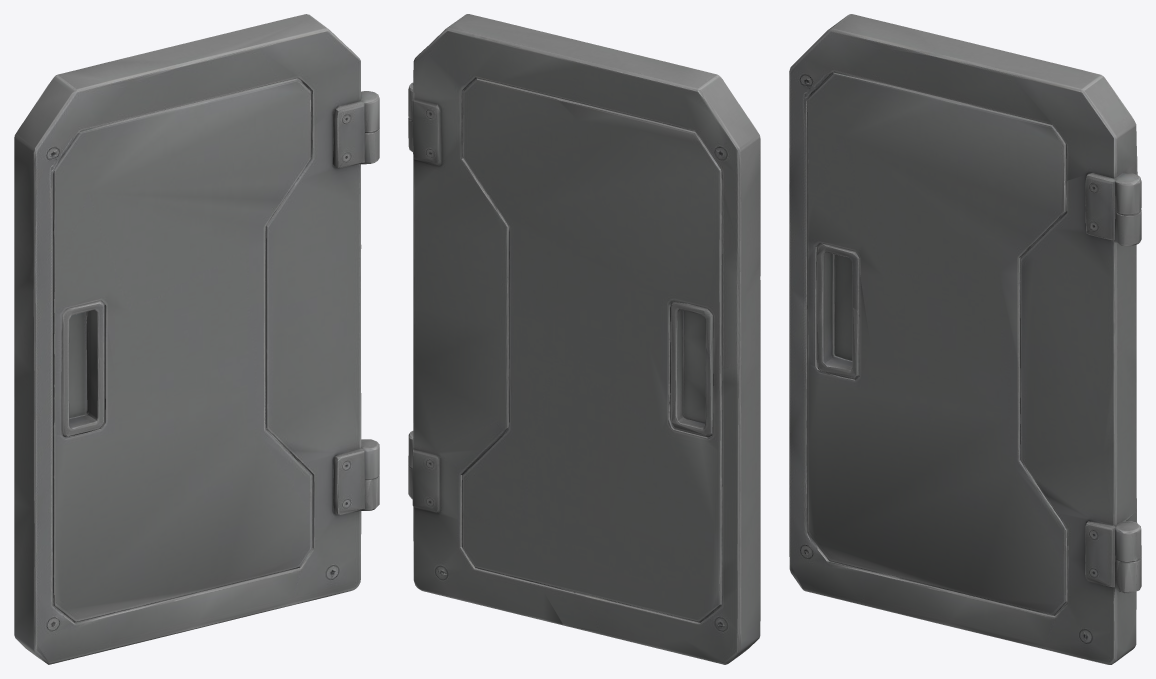
The model's file is shared_flak_tower_compact_option__entrance_door_leaf.glb.
The picture shows the model from 3 angles, left to right: view 1: azimuth 30°, elevation 25°; view 2: azimuth 150°, elevation 25°; view 3: azimuth 330°, elevation 25°; orthographic projection.
Visible parts, largest first — view 1: mesh_node; view 2: mesh_node; view 3: mesh_node.
Boxes of the visible parts, x1,y1,x2,y2 form: mesh_node: (14,14,379,664); mesh_node: (408,14,760,664); mesh_node: (789,14,1141,664).
Size of the model in its own units: 1.4 by 2.19 by 0.1817.
1 material, 1 textured.
